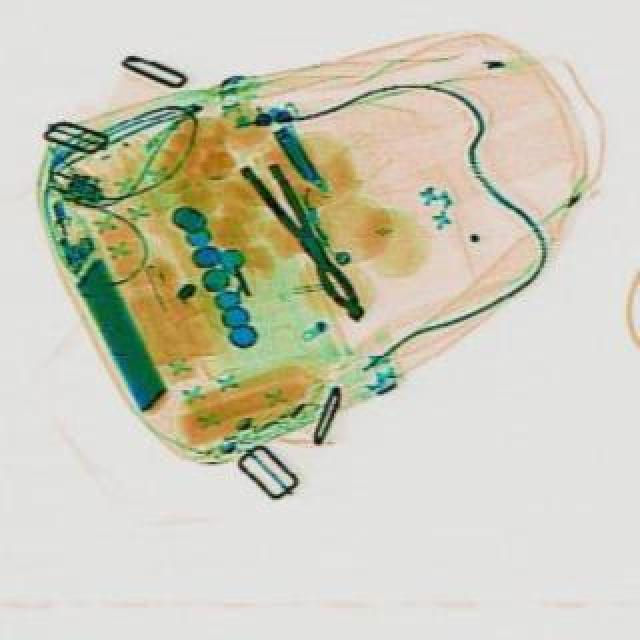wrench: (236, 150, 372, 326)
